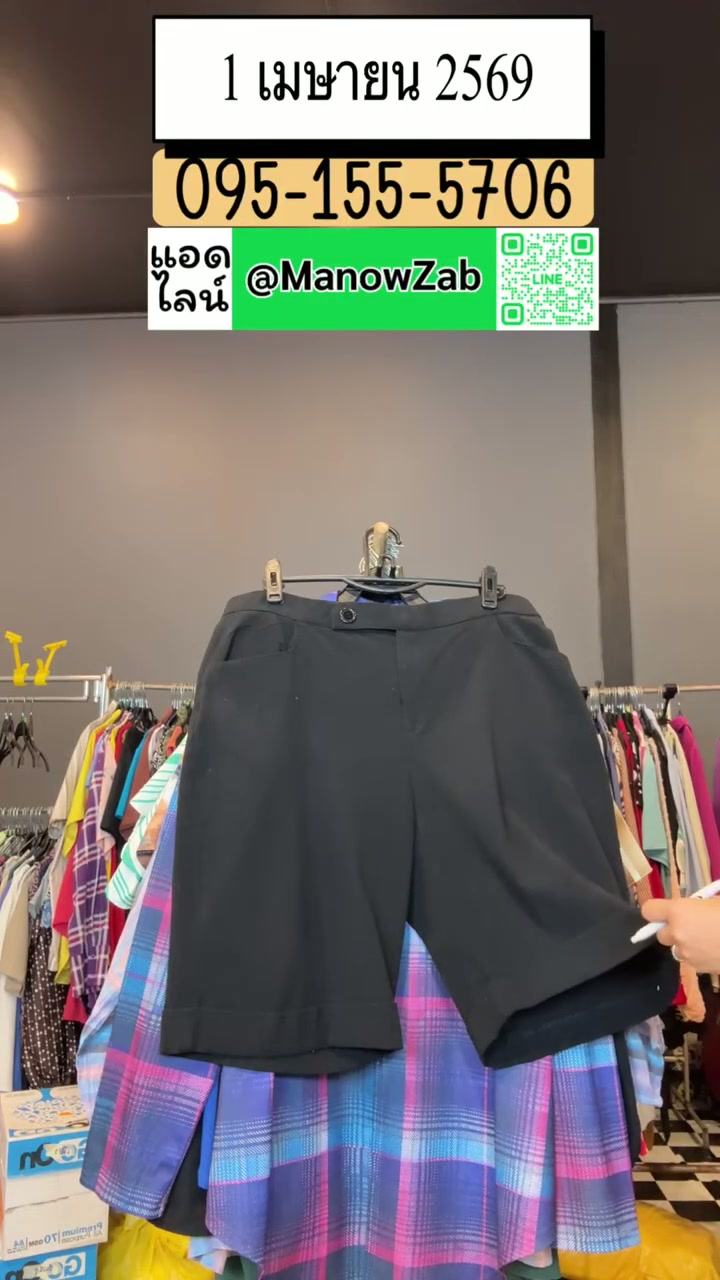display_shirt: (161, 585, 675, 1076), (161, 585, 675, 1075)
